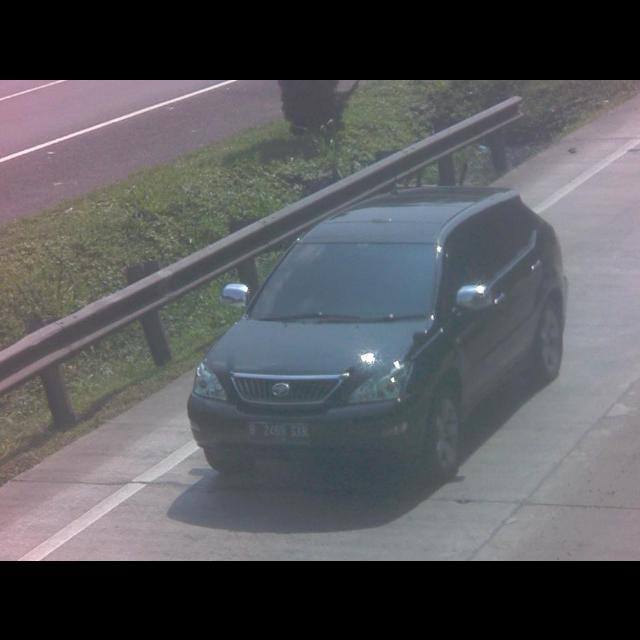plate: (243, 420, 310, 446)
